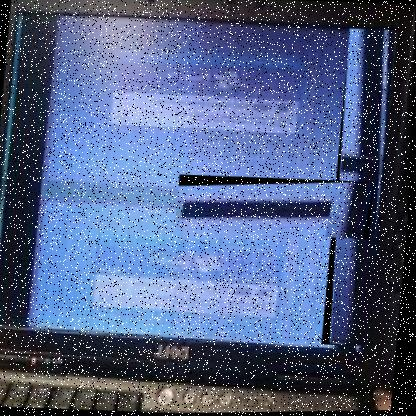spot: (323, 28, 394, 348), (174, 173, 375, 243)
